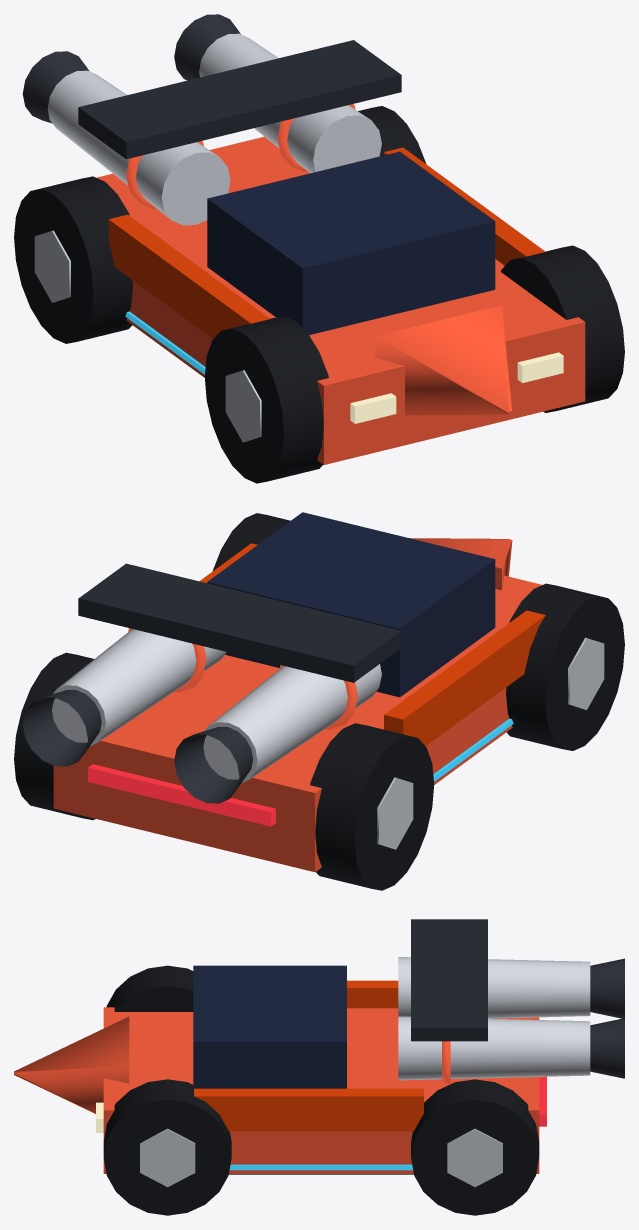
File: bot_rocket.glb
3 renders of one model, top to bottom at view 1: azimuth 30°, elevation 25°; view 2: azimuth 150°, elevation 25°; view 3: azimuth 270°, elevation 25°, orthographic. The views are drawn at different scales.
Parts seen in each view (by area): view 1: bot_rocket; view 2: bot_rocket; view 3: bot_rocket.
Part boxes in pixels (x1,y1,x2,y2): bot_rocket: [14, 14, 624, 483]; bot_rocket: [14, 512, 624, 890]; bot_rocket: [14, 919, 624, 1215].
Size of the model in its own units: 2.5 by 1.51 by 4.77.
